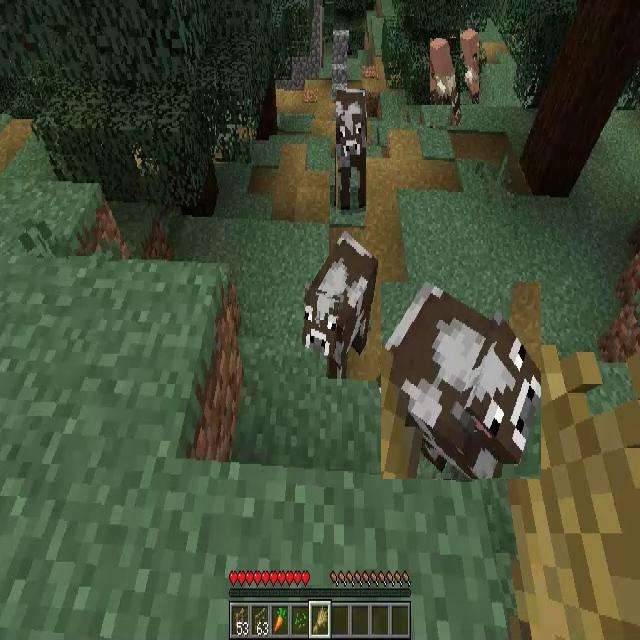cow: (381, 282, 541, 479), (307, 229, 375, 377), (336, 90, 366, 212)
people: (430, 38, 462, 126), (460, 28, 479, 104)
